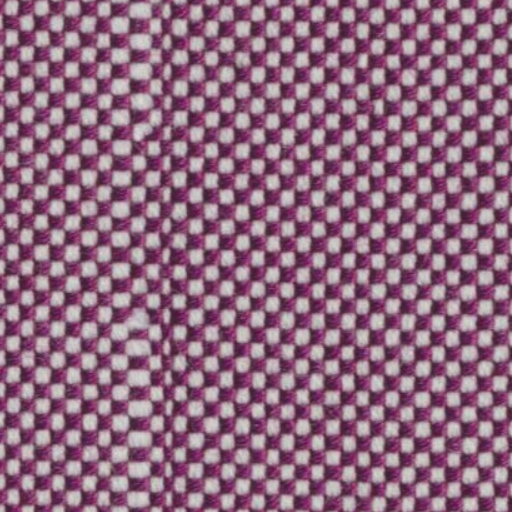TuoSha: (80, 7, 206, 504)
